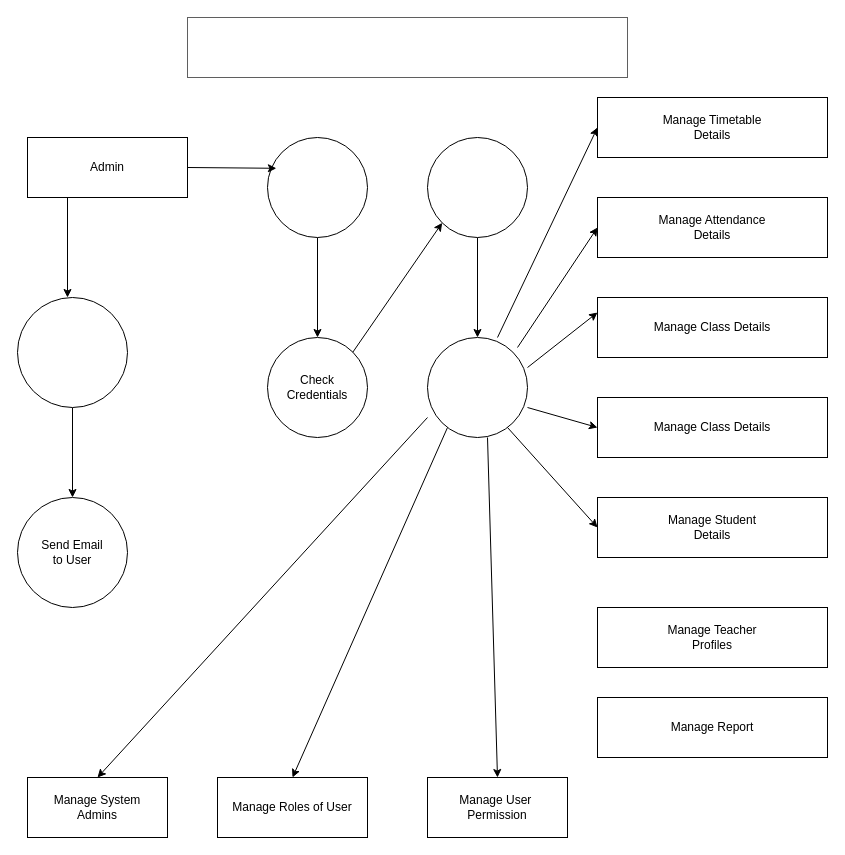
Some shapes in this 845 by 855 pixel diagram are drawn without their labels. The centre of each missing label's shape, as x and y in pixels:
"Check Roles of Access" goes at pixel 477 187.
"Forgot Password" goes at pixel 72 352.
"Login to Systems" goes at pixel 317 187.
"Manage Modules" goes at pixel 477 387.
"Student Information System" goes at pixel 407 47.
